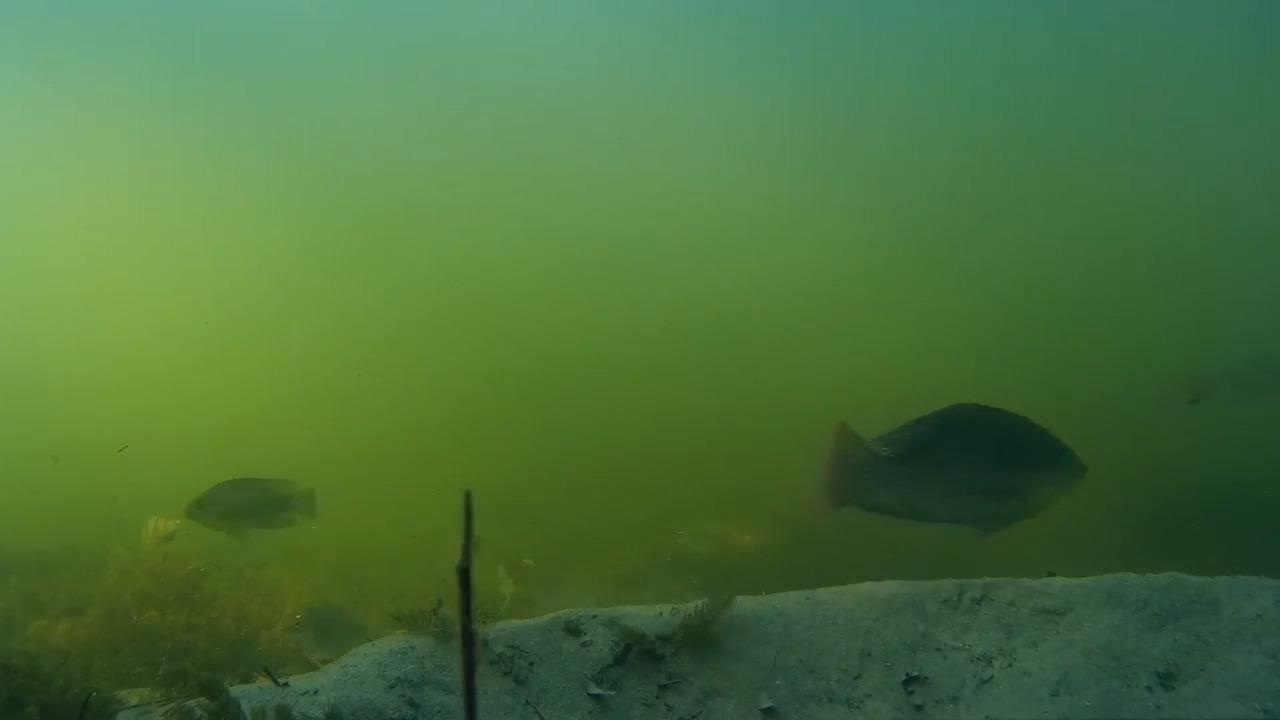Tilapia: (180, 484, 333, 540), (267, 592, 380, 666), (125, 502, 176, 542), (809, 398, 816, 400)
